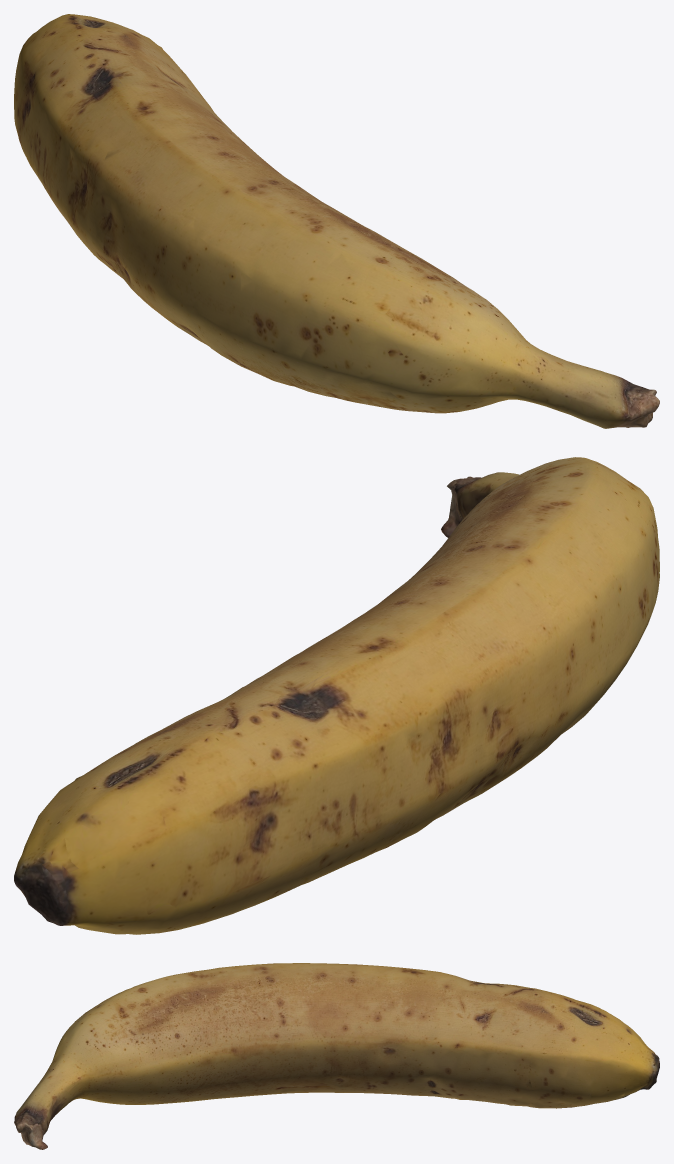
Rendered from banana_2.glb.
3 views of the same model, one above another, from view 1: azimuth 30°, elevation 25°; view 2: azimuth 150°, elevation 25°; view 3: azimuth 270°, elevation 25° (orthographic). The views are drawn at different scales.
Visible parts, largest first — view 1: Banana (photoscanned); view 2: Banana (photoscanned); view 3: Banana (photoscanned).
Part boxes in pixels (x1=…): Banana (photoscanned): x1=14, y1=14, x2=659, y2=428; Banana (photoscanned): x1=14, y1=457, x2=659, y2=934; Banana (photoscanned): x1=14, y1=963, x2=659, y2=1149.
Size of the model in its own units: 0.0613 by 0.0332 by 0.17.
Materials: 1 (1 with a texture image).
